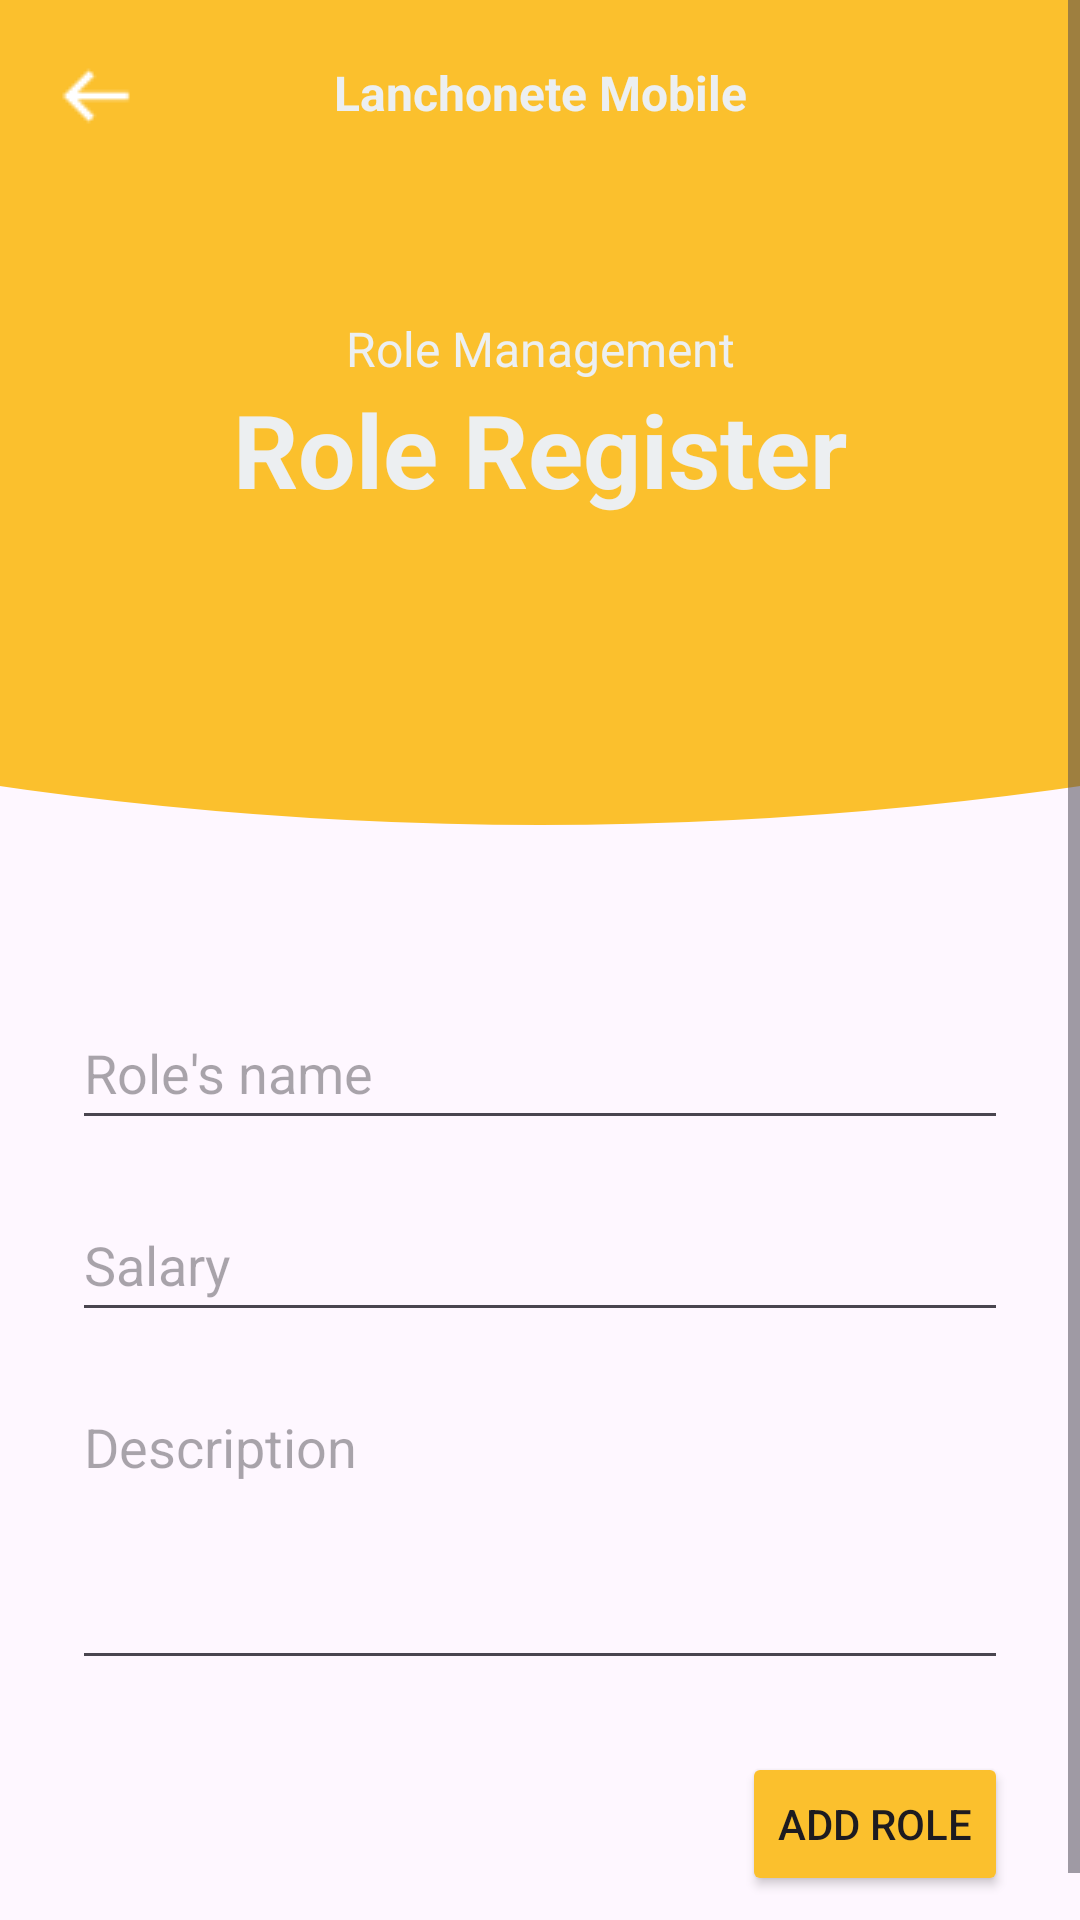

Where to tap for icons on this 1080x1920 app screen, as point (x, y):
Back: point (96, 96)
